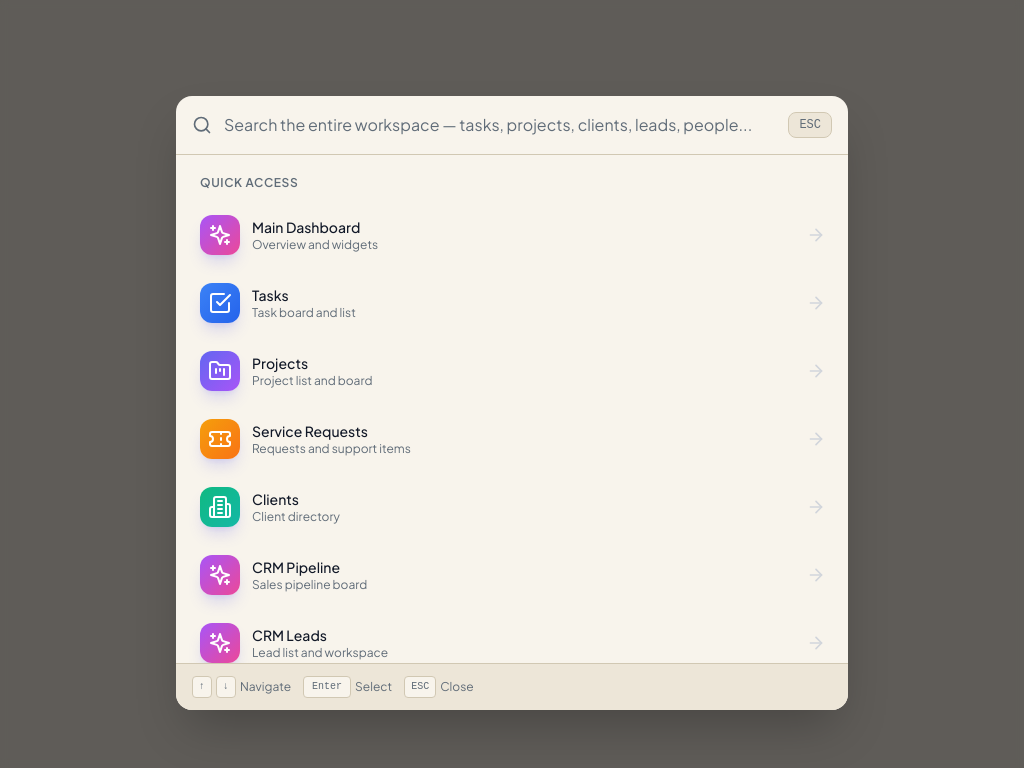
Scenario: GlobalSearch › shows a real no-results state when the server returns an empty group list
Replace the text in the field named "Search query" with "zzz": (500, 125) [224,113,776,137]
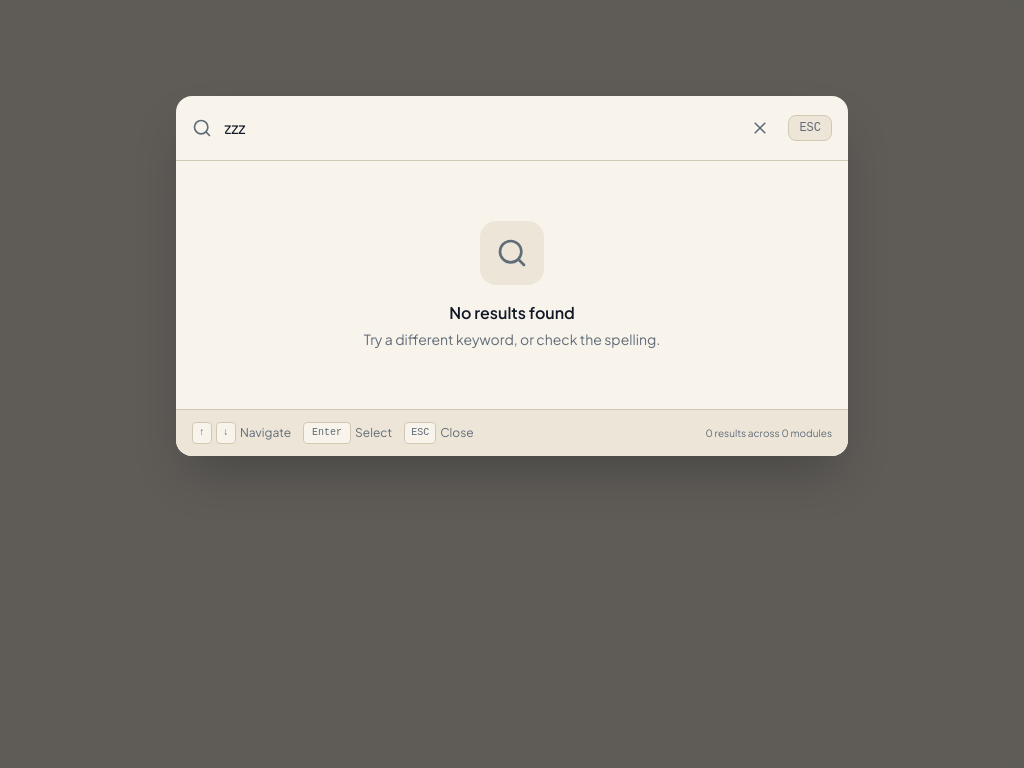
Check: the heading "No results found" is shown, box [449,302,575,323]
Check: the button "Tasks" is gone
